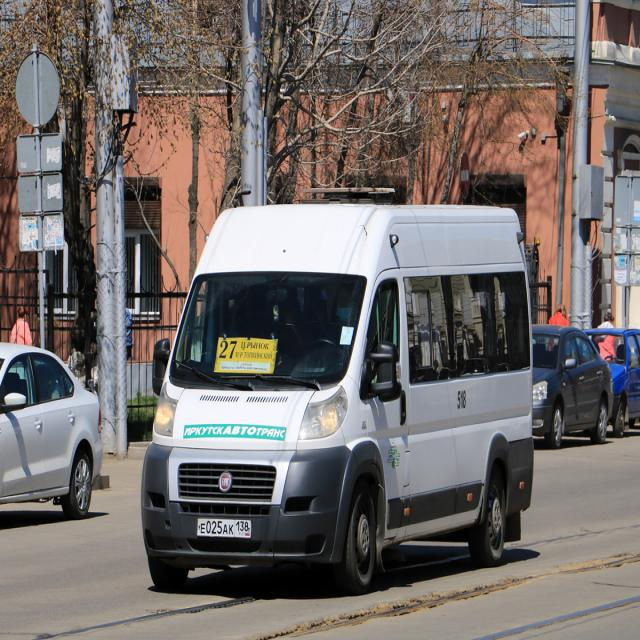number-of-bus: (219, 337, 239, 362)
